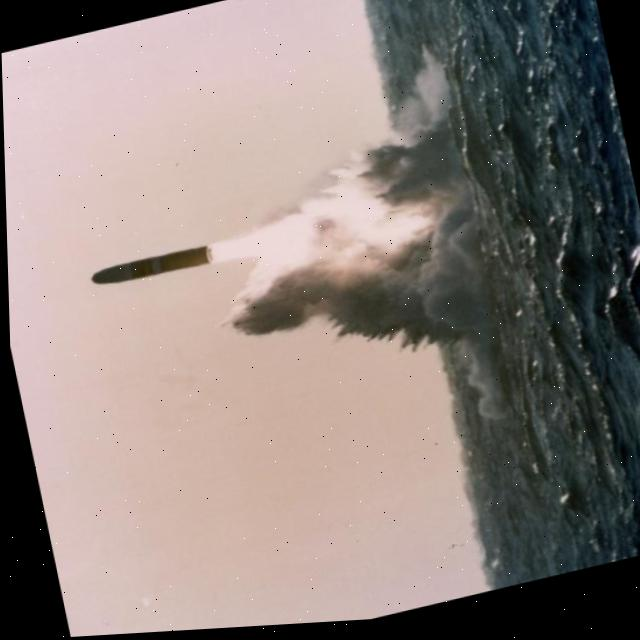missile: (85, 236, 208, 300)
